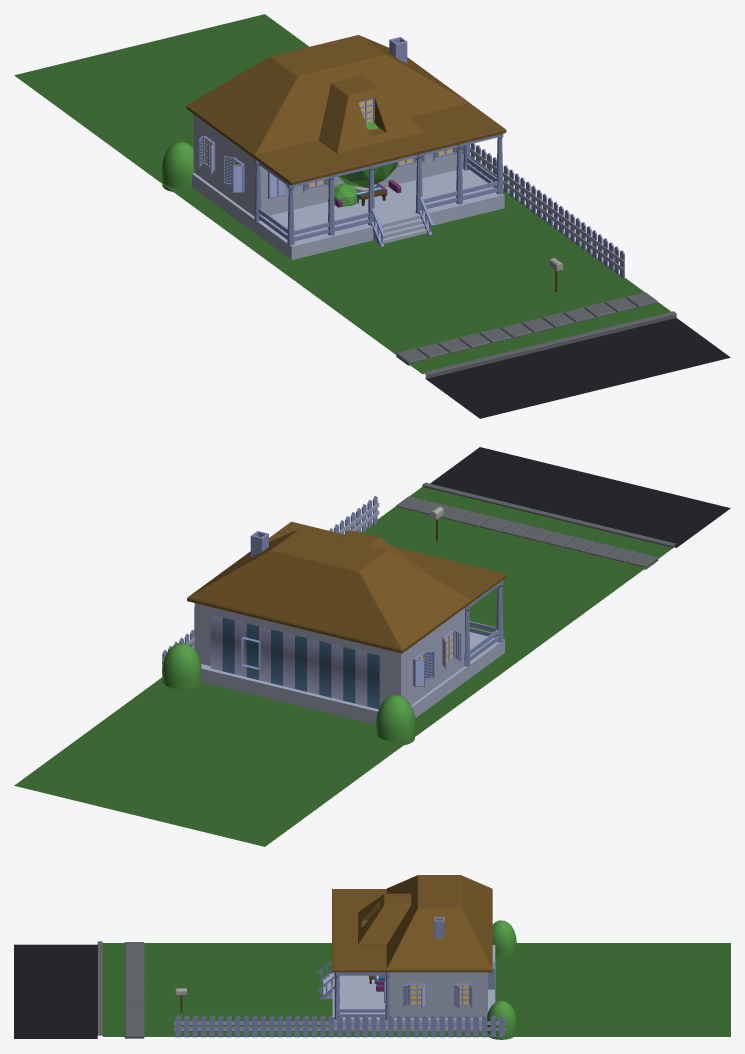
3 views of the same model, one above another, from view 1: azimuth 30°, elevation 25°; view 2: azimuth 150°, elevation 25°; view 3: azimuth 270°, elevation 25° (orthographic). The views are drawn at different scales.
Parts seen in each view (by area): view 1: Earth, Cube.037, Cube.024, Rock, Bush, tree; view 2: Earth, Cube.037, Room, Rock, Bush, Cube.024; view 3: Earth, Cube.037, Cube.024, Rock, Bush.
Boxes of the visible parts, <box> form: Earth: <box>14,14,730,418</box>; Cube.037: <box>186,35,506,259</box>; Cube.024: <box>470,143,624,278</box>; Rock: <box>396,292,657,365</box>; Bush: <box>161,141,194,191</box>; tree: <box>338,122,396,188</box>; Earth: <box>14,447,730,846</box>; Cube.037: <box>187,521,506,724</box>; Room: <box>210,614,379,709</box>; Rock: <box>396,496,658,569</box>; Bush: <box>162,643,415,745</box>; Cube.024: <box>162,495,379,670</box>; Earth: <box>14,941,730,1038</box>; Cube.037: <box>317,875,495,1027</box>; Cube.024: <box>174,1015,505,1037</box>; Rock: <box>124,942,144,1038</box>; Bush: <box>487,920,516,1039</box>.
Size of the model in its own units: 2061 by 1040 by 6630.
